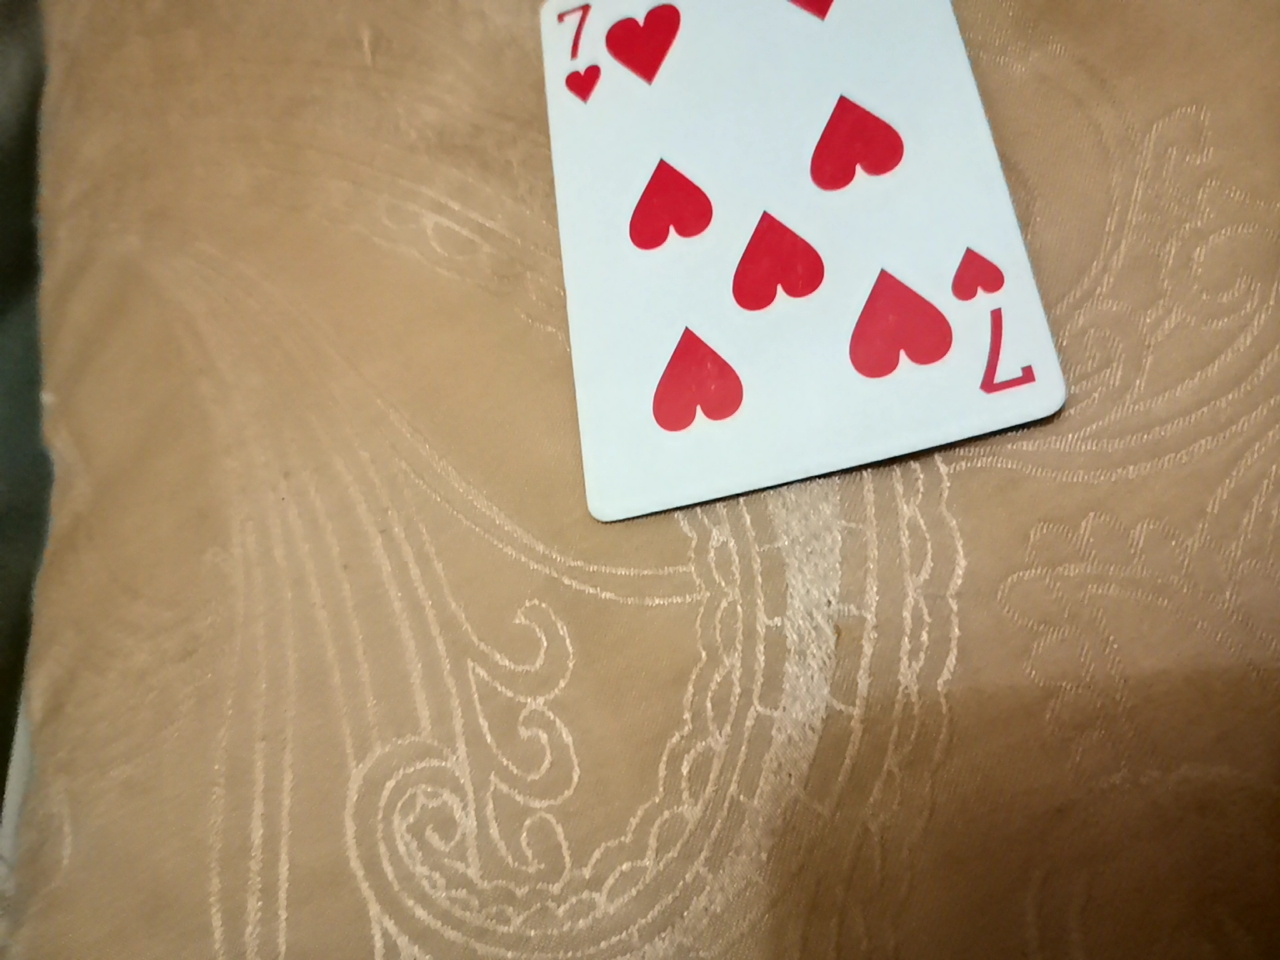hx 7: (535, 0, 1043, 510)
